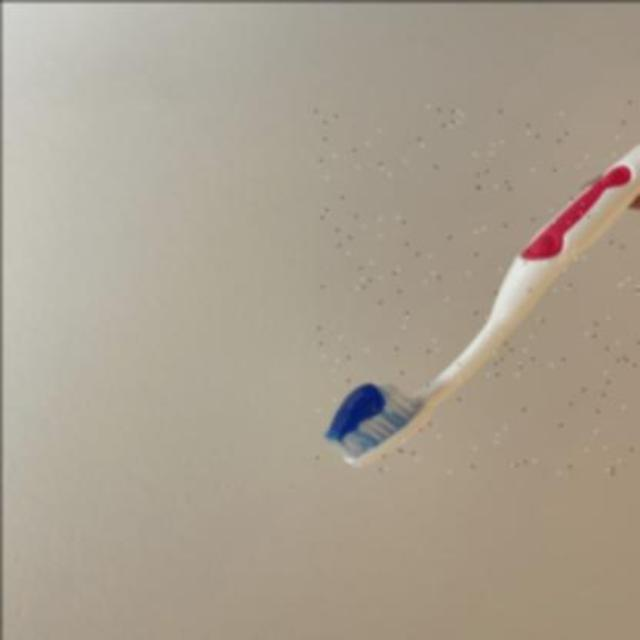toothbrush: (314, 100, 640, 473)
